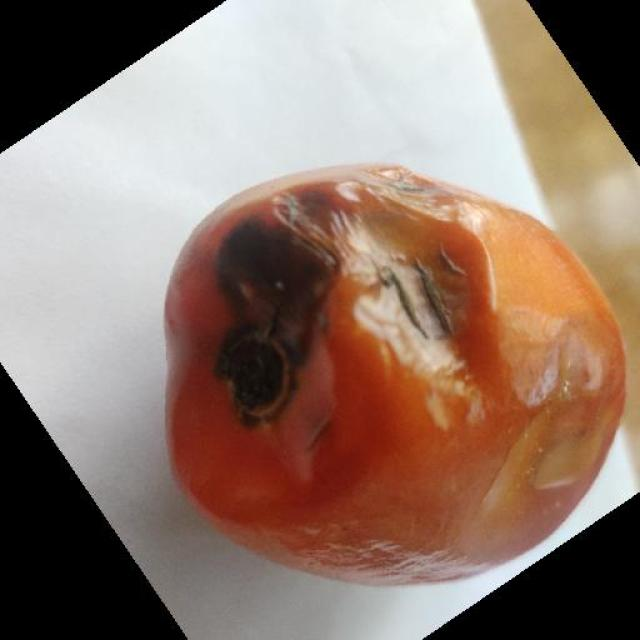Stale_tomato: (161, 161, 615, 561)
